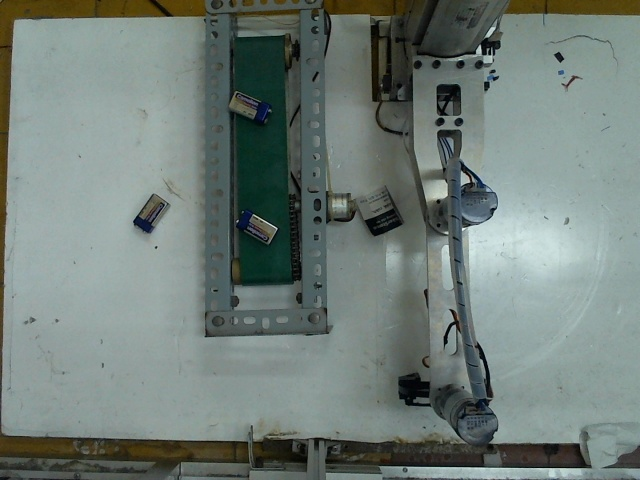battery: (233, 202, 281, 251), (227, 88, 275, 123), (129, 193, 172, 231)
